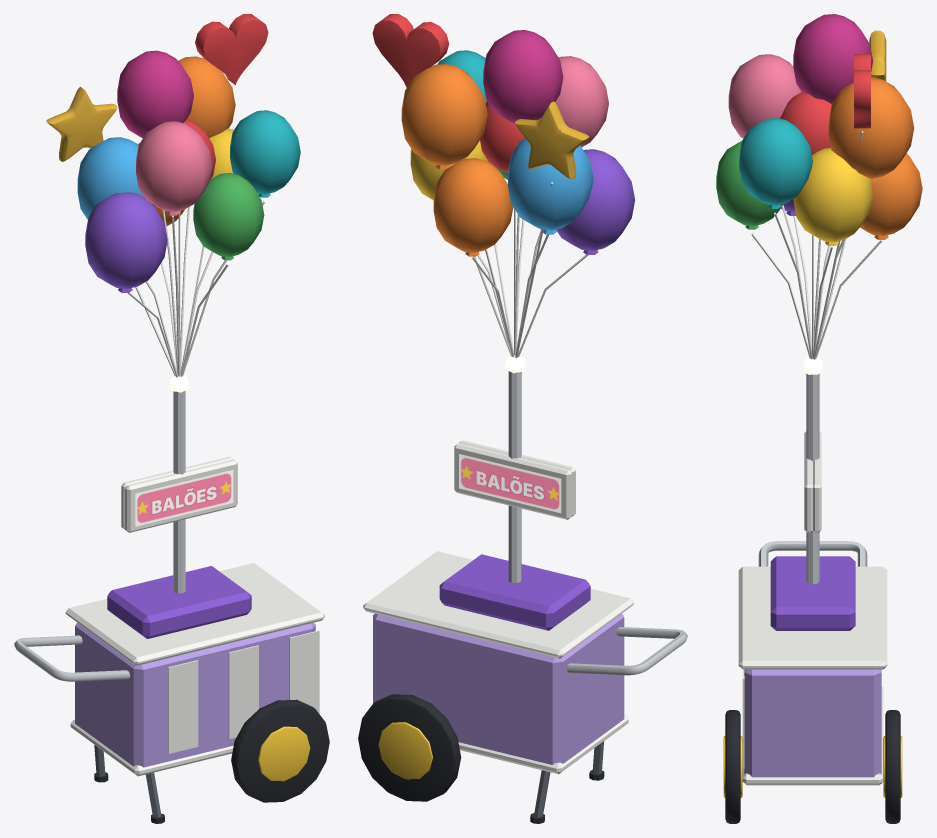
File: carrinho_baloes.glb
The picture shows the model from 3 angles, left to right: view 1: azimuth 30°, elevation 25°; view 2: azimuth 150°, elevation 25°; view 3: azimuth 270°, elevation 25°; orthographic projection. The views are drawn at different scales.
Visible parts, largest first — view 1: carrinho_baloes, baloes_1, baloes_2; view 2: carrinho_baloes, baloes_1, baloes_2; view 3: carrinho_baloes, baloes_1, baloes_2.
Boxes of the visible parts, x1,y1,x2,y2 form: carrinho_baloes: [14, 374, 329, 823]; baloes_1: [46, 14, 268, 376]; baloes_2: [85, 50, 300, 377]; carrinho_baloes: [358, 355, 687, 823]; baloes_1: [372, 14, 608, 358]; baloes_2: [433, 30, 634, 357]; carrinho_baloes: [723, 357, 902, 823]; baloes_1: [716, 30, 914, 359]; baloes_2: [739, 14, 922, 359].
Bounding box in the file's own units: 1.62 × 4.41 × 1.08.
Materials: 3 (2 with a texture image).
